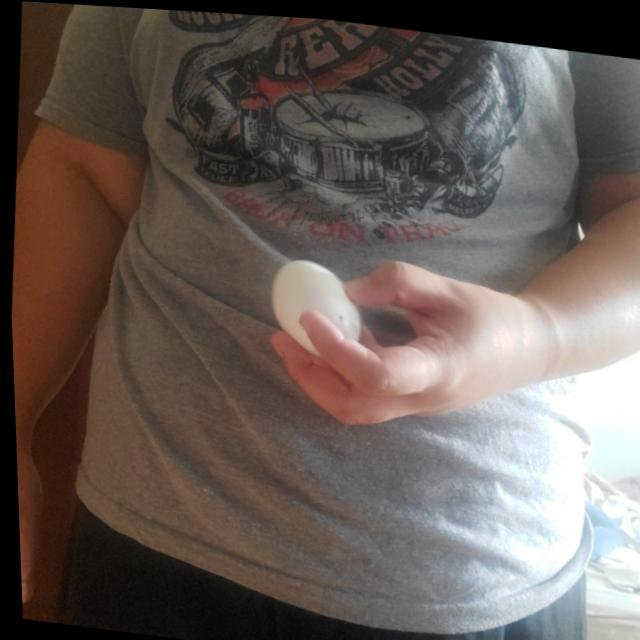egg: (268, 253, 364, 351)
